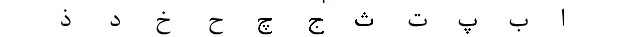character: (247, 3, 293, 37), (444, 2, 485, 37), (98, 1, 132, 37), (345, 3, 381, 37), (148, 4, 183, 37), (201, 3, 234, 37), (399, 1, 431, 35), (500, 4, 534, 35), (55, 1, 84, 37), (300, 4, 329, 37), (549, 4, 578, 37)
